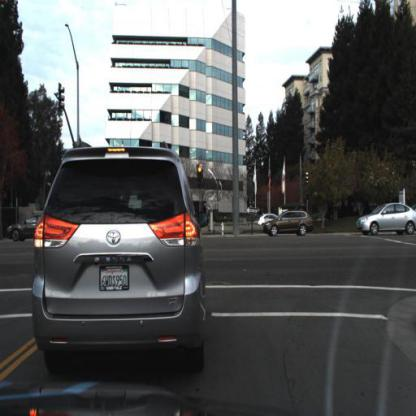car: (31, 140, 211, 375), (356, 201, 416, 238), (264, 210, 315, 239), (7, 212, 50, 244), (259, 213, 288, 229)
trafficLight-Red: (196, 162, 204, 189)
